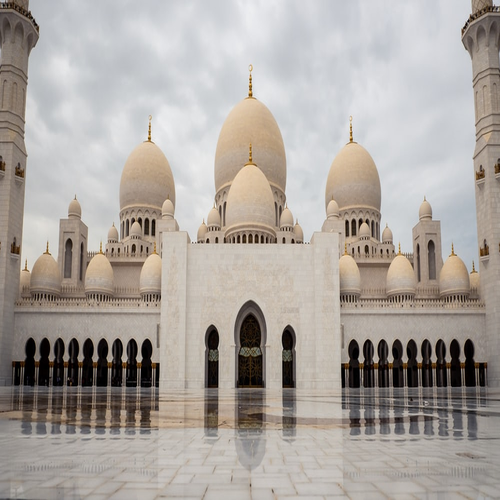Mosque: (14, 64, 485, 405)
